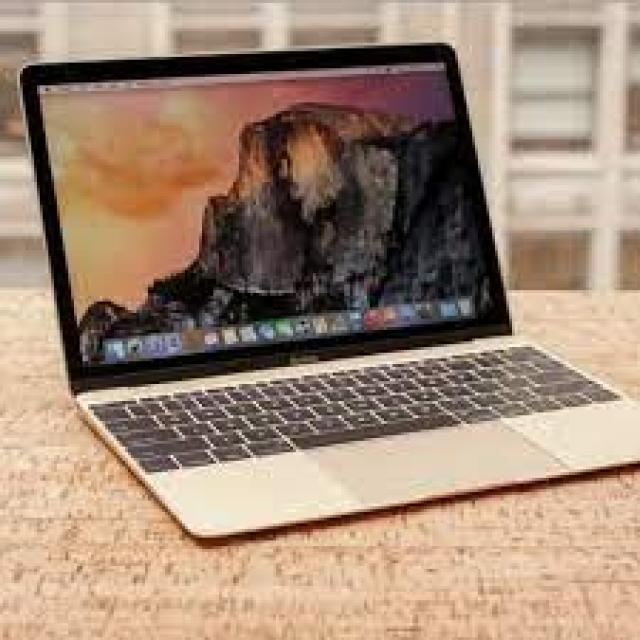others: (3, 31, 640, 555)
